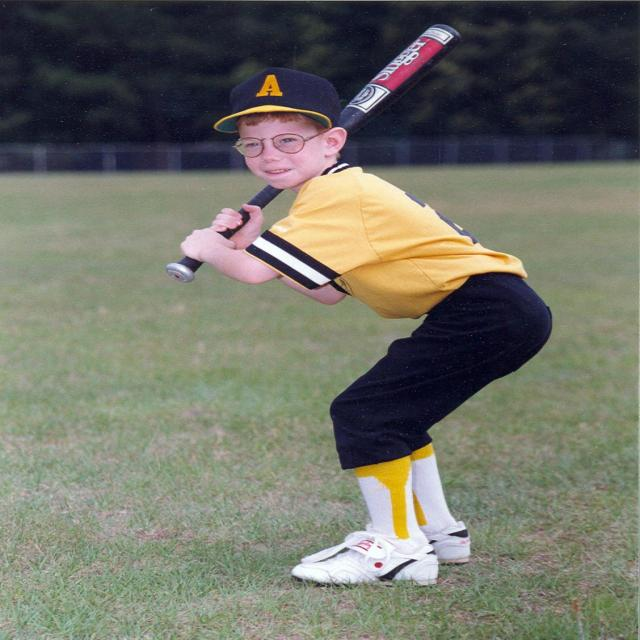Face: (237, 113, 344, 200)
